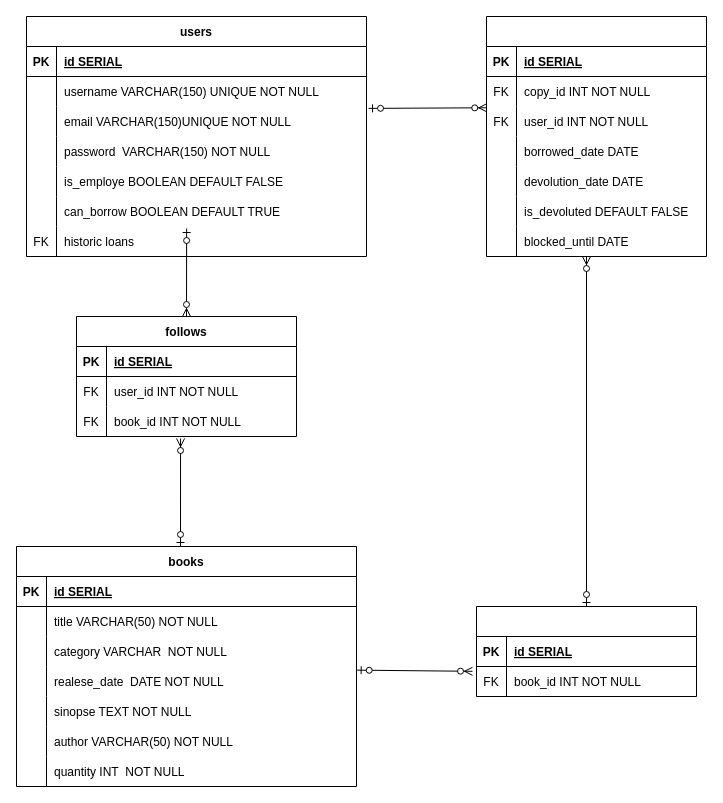
Image size: 723x803. Some labels were removed from this diagram. Each missing label, with the box of its shape:
copys: (476, 606, 696, 696)
loans: (486, 16, 706, 256)
